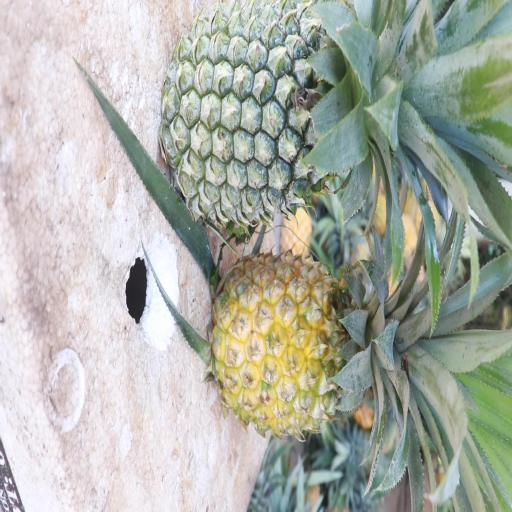Pineapple - v8 v1: (213, 235, 489, 502)
